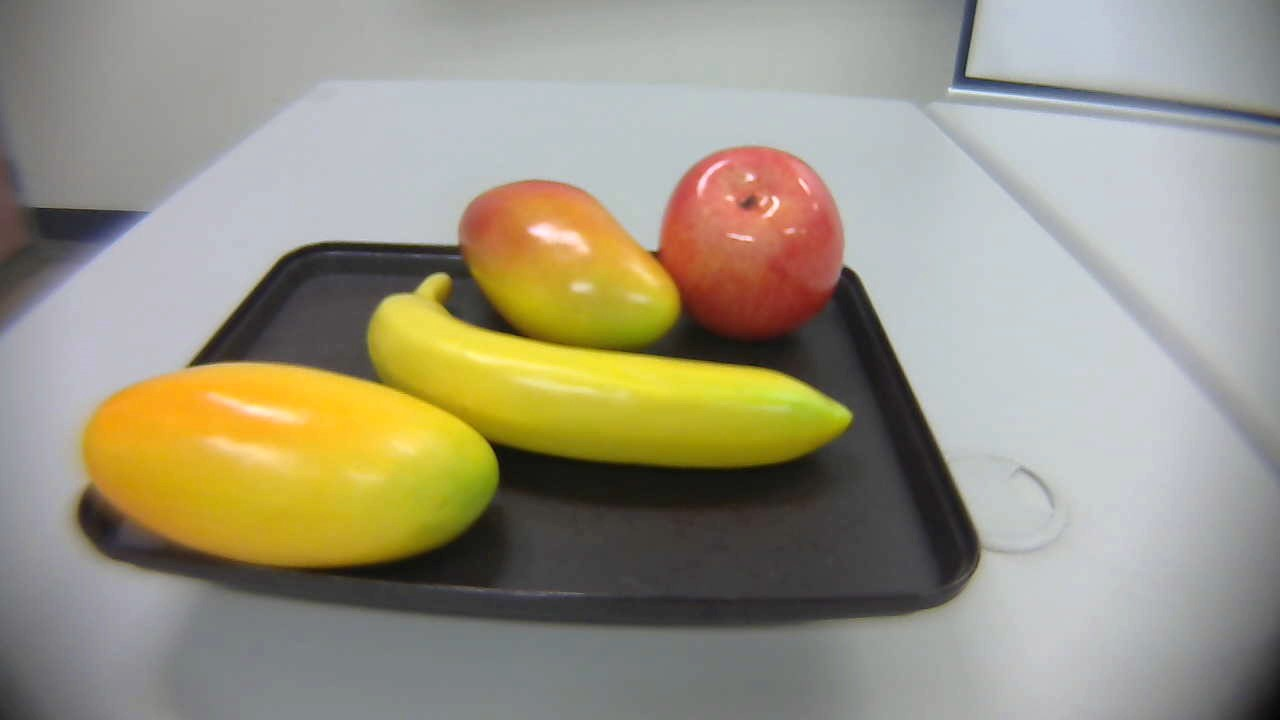banana: (360, 271, 857, 476)
red apple: (663, 149, 848, 343)
red mango: (448, 168, 698, 354)
yellow mango: (82, 348, 507, 569)
